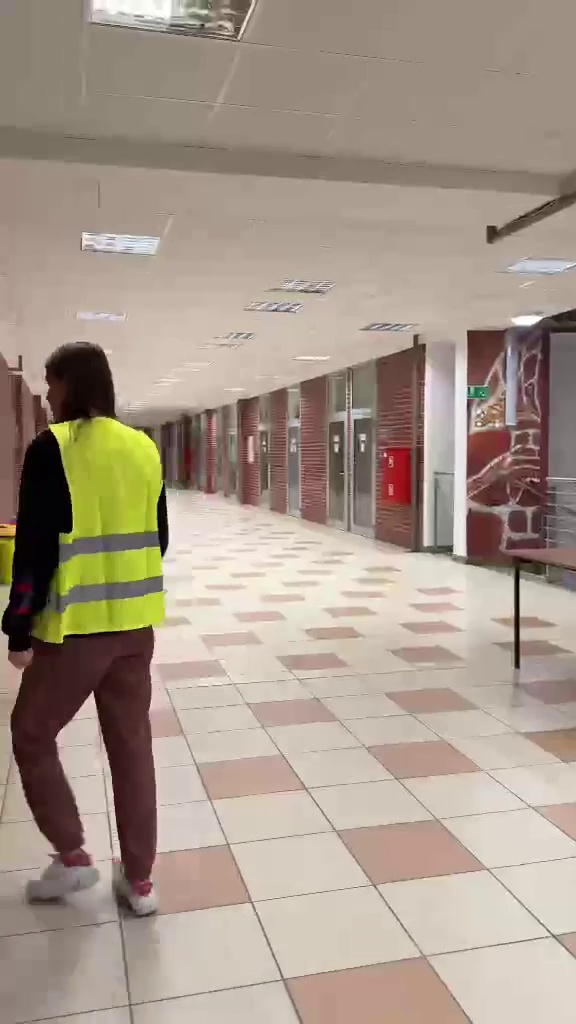vest: (10, 342, 191, 921)
